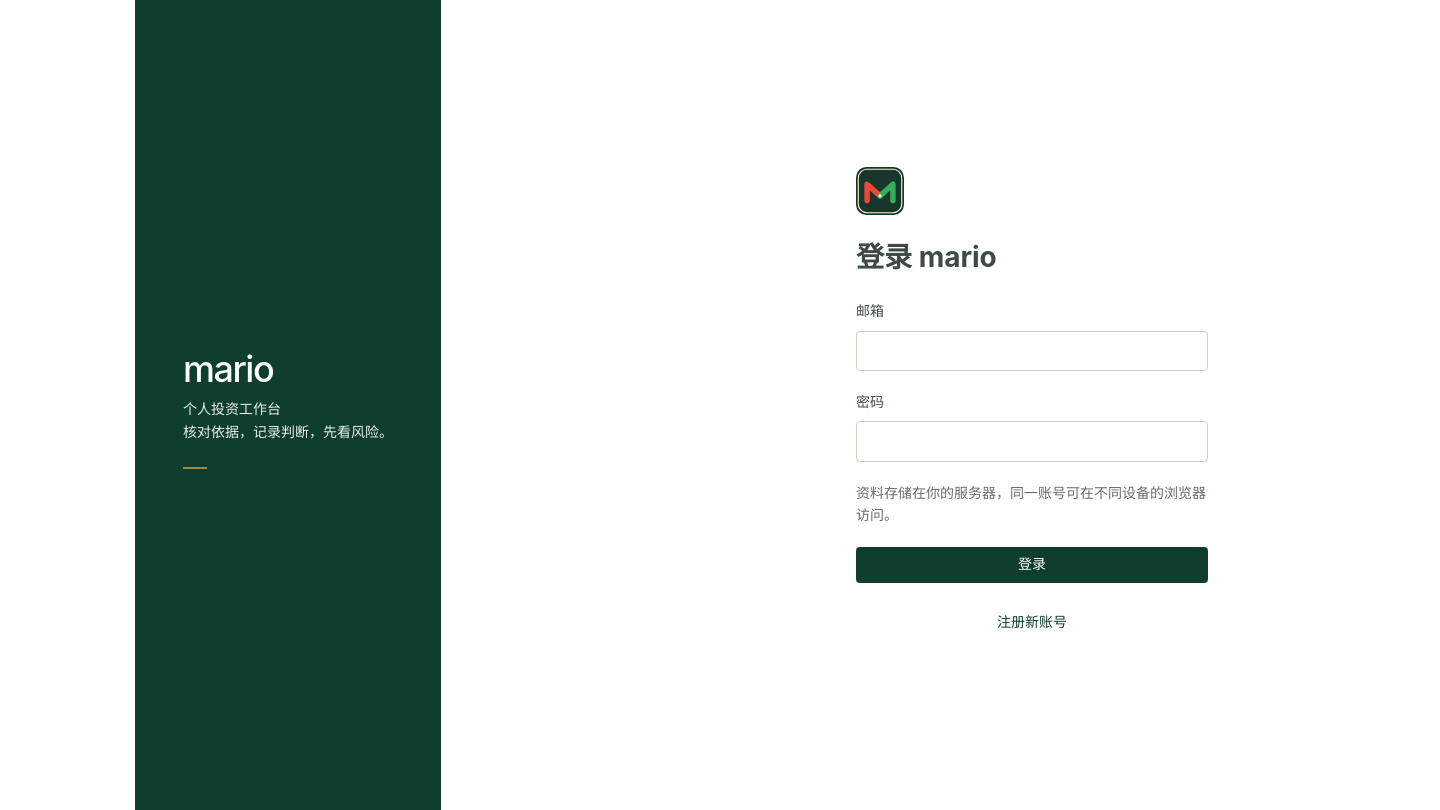
Test: rejects a remote cleartext API before sending login credentials
Type "user@example.test" into the field labelled "邮箱".
click(1032, 351); type("user@example.test")  # box x1=856 y1=331 x2=1208 y2=371
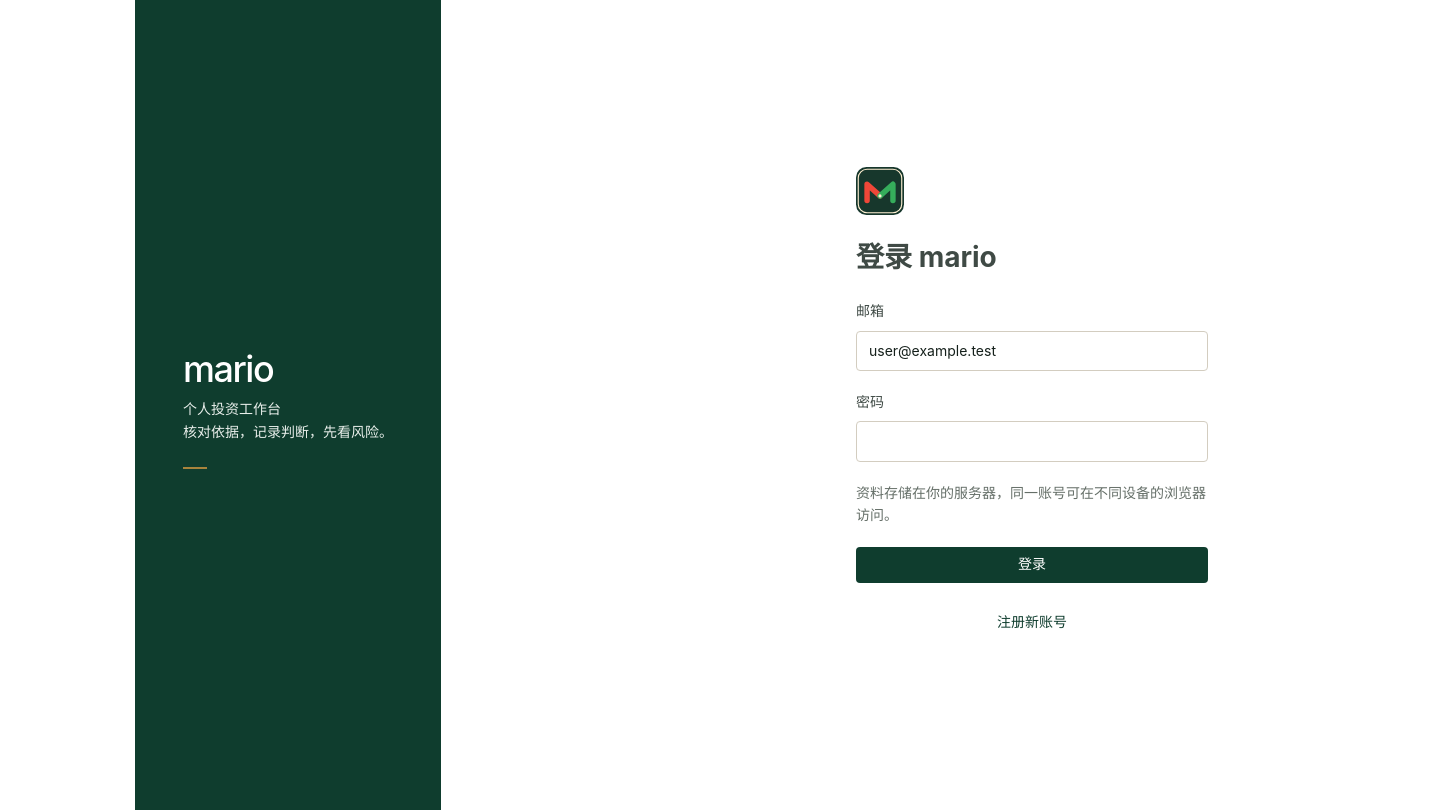
Type "long-password-1234" into the password field labelled "密码".
click(1032, 442); type("long-password-1234")  # box x1=856 y1=421 x2=1208 y2=462
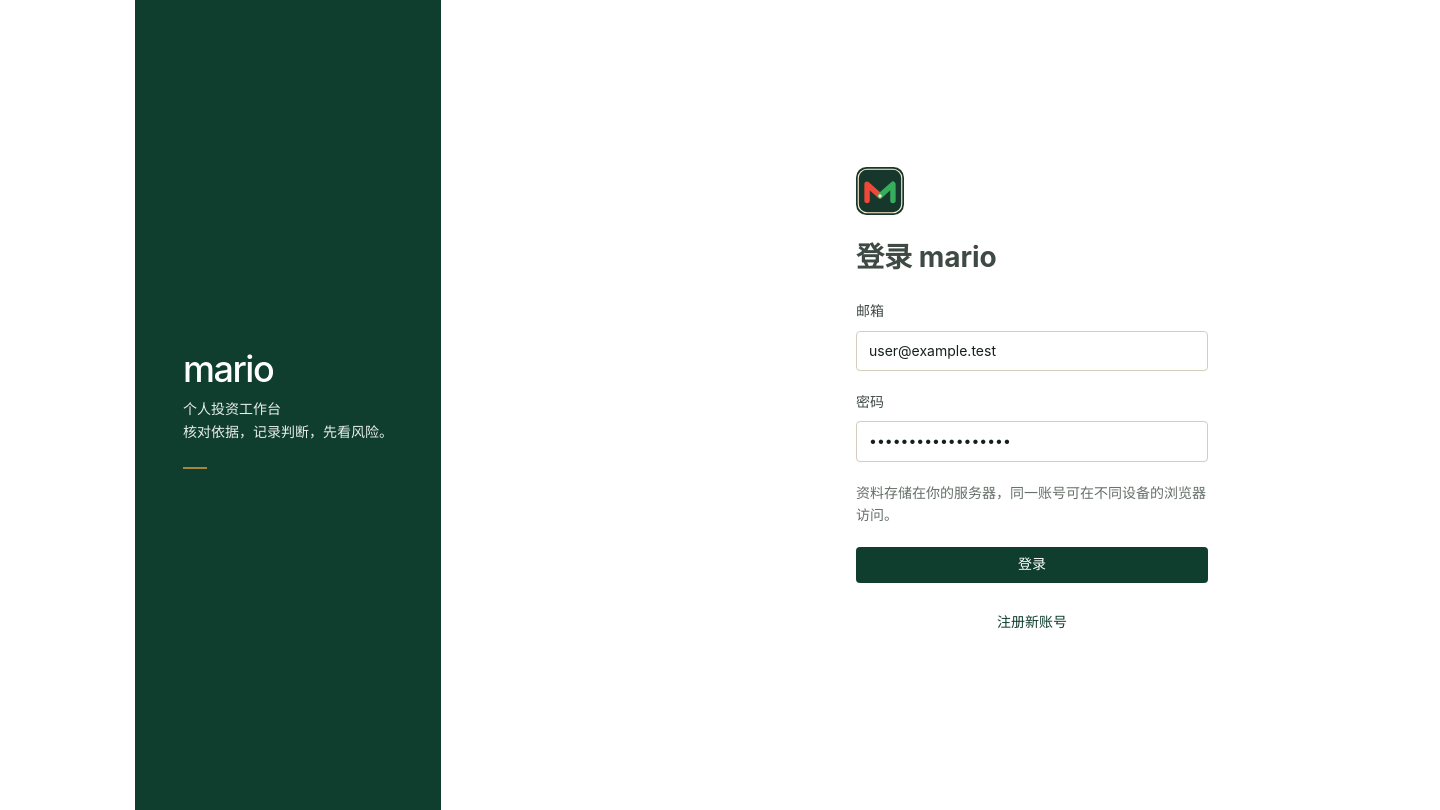
Click the button "登录".
click(1032, 565)  # box x1=856 y1=547 x2=1208 y2=583
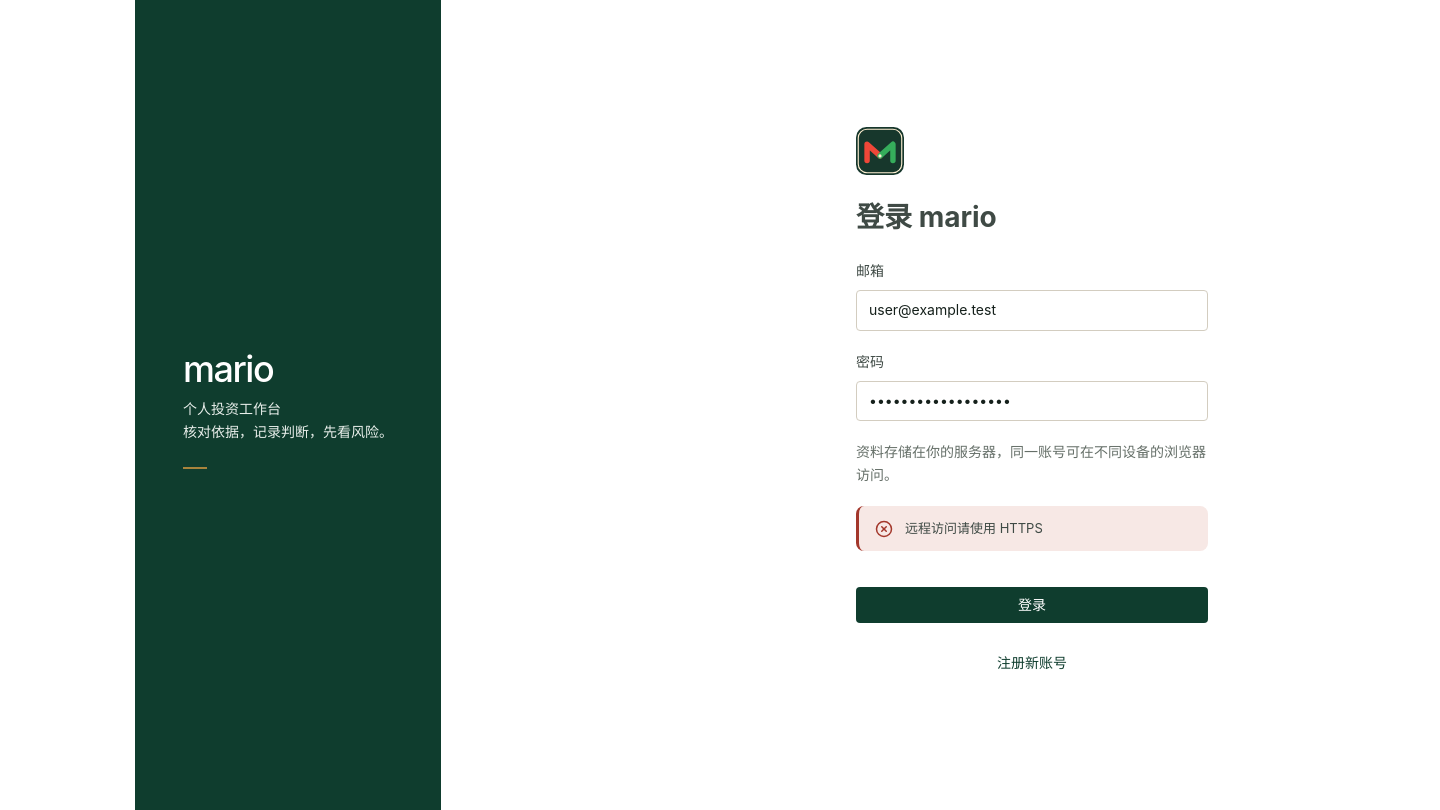
Now the message shows "HTTPS", box x1=905 y1=520 x2=1043 y2=536
